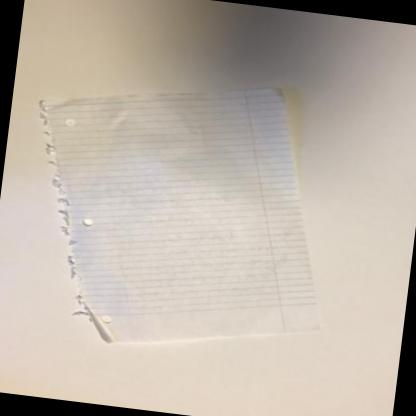Paper: (41, 85, 318, 341)
